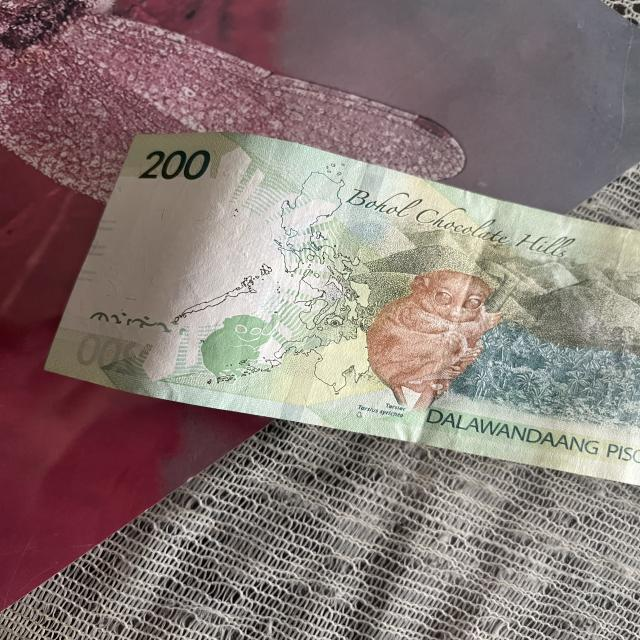200_tarsier: (354, 265, 504, 422)
200_tarsier_watermark: (190, 303, 284, 389)
